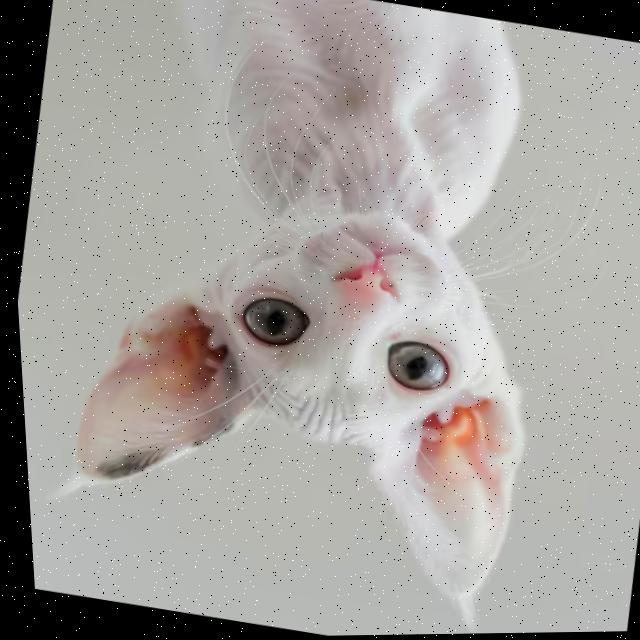Cornish Rex: (23, 0, 603, 624)
